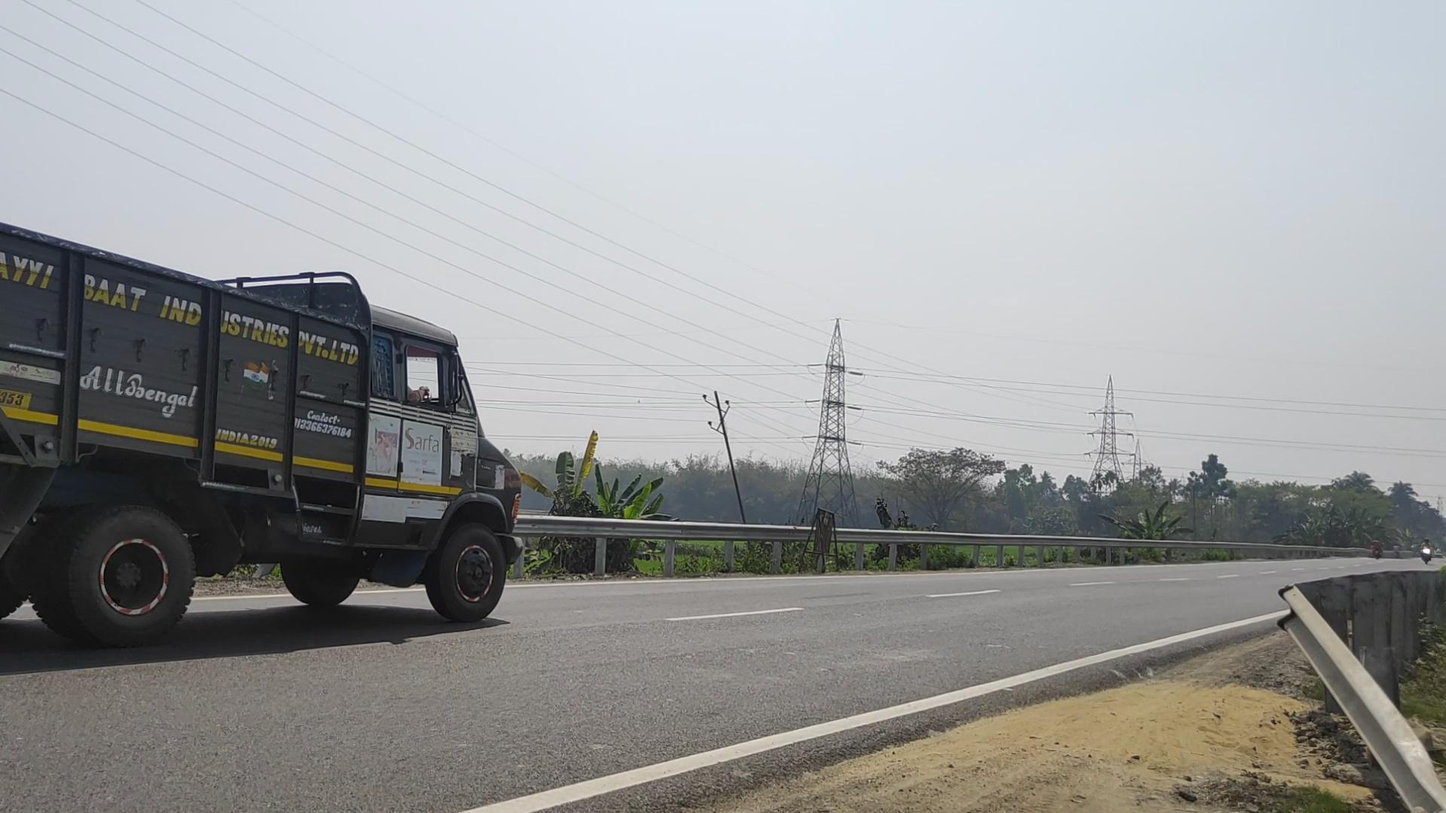truck: (1, 218, 524, 646)
